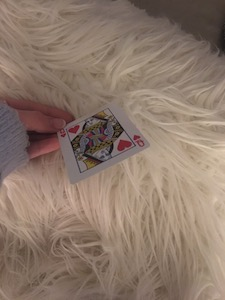QueenOfHearts: (50, 102, 153, 187)
